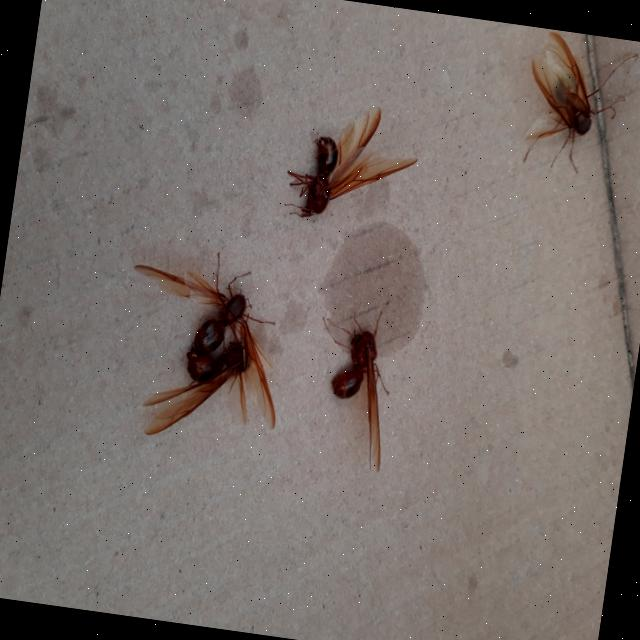Dead-Male-Alate: (114, 241, 298, 430), (280, 95, 426, 233), (138, 294, 263, 449), (516, 29, 640, 180), (301, 302, 402, 476)
